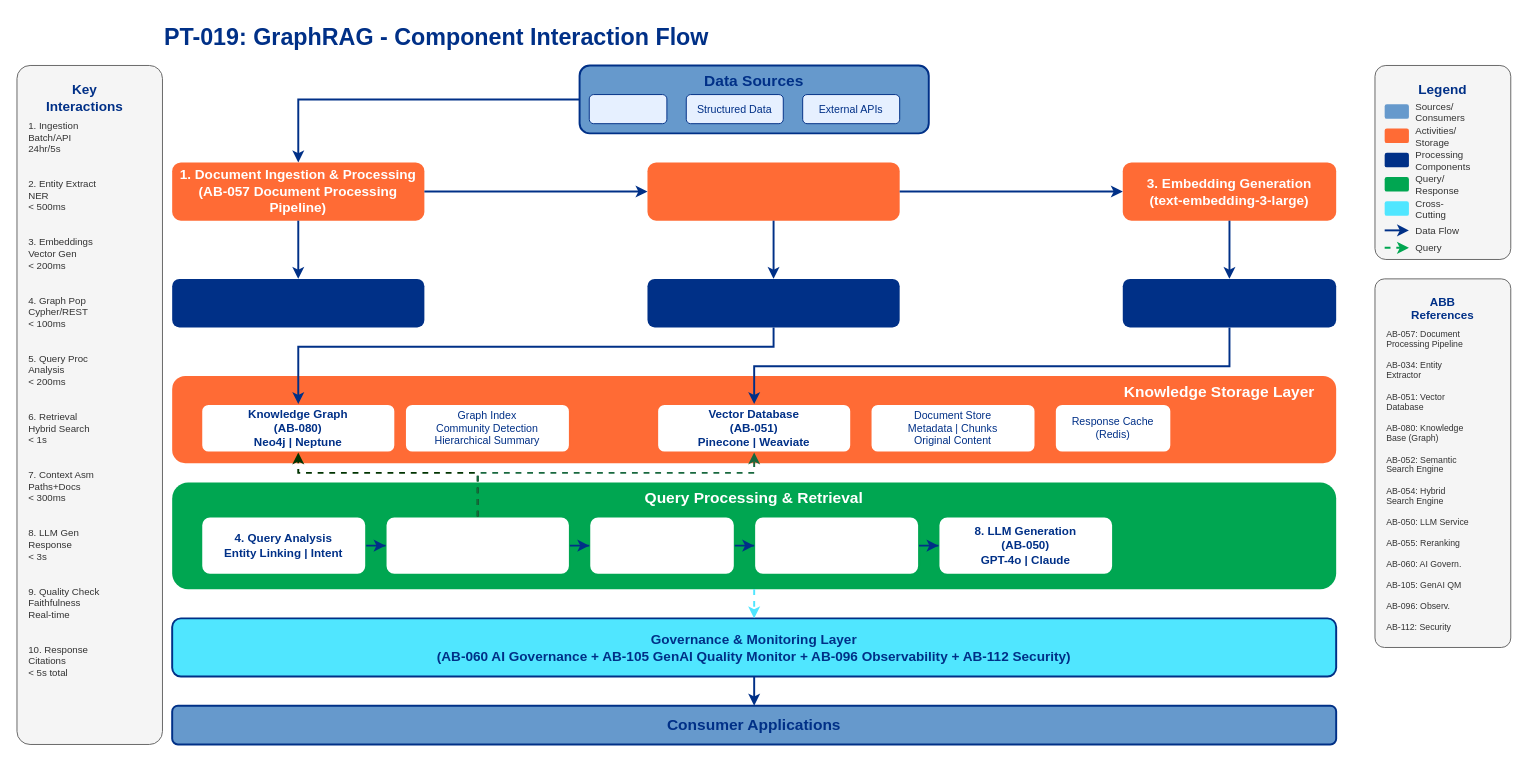
Image size: 1528x761. Some labels were removed from this diagram. The centre of each missing label's shape, as x and y in pixels:
"2. Entity & Relationship Extraction (AB-034 Entity Extractor + LLM)" goes at pixel 773 191.
"5. Hybrid Retrieval Vector + Graph Traversal" goes at pixel 477 545.
"6. Reranking Relevance Scoring" goes at pixel 661 545.
"7. Context Assembly Graph Paths + Chunks" goes at pixel 836 545.
"Document Processing Parse | Clean | Chunk" goes at pixel 298 302.
"Documents" goes at pixel 627 109.
"Embedding Model Dense Vector Generation" goes at pixel 1229 302.
"Entity Extraction NER | Entity Resolution" goes at pixel 773 302.
